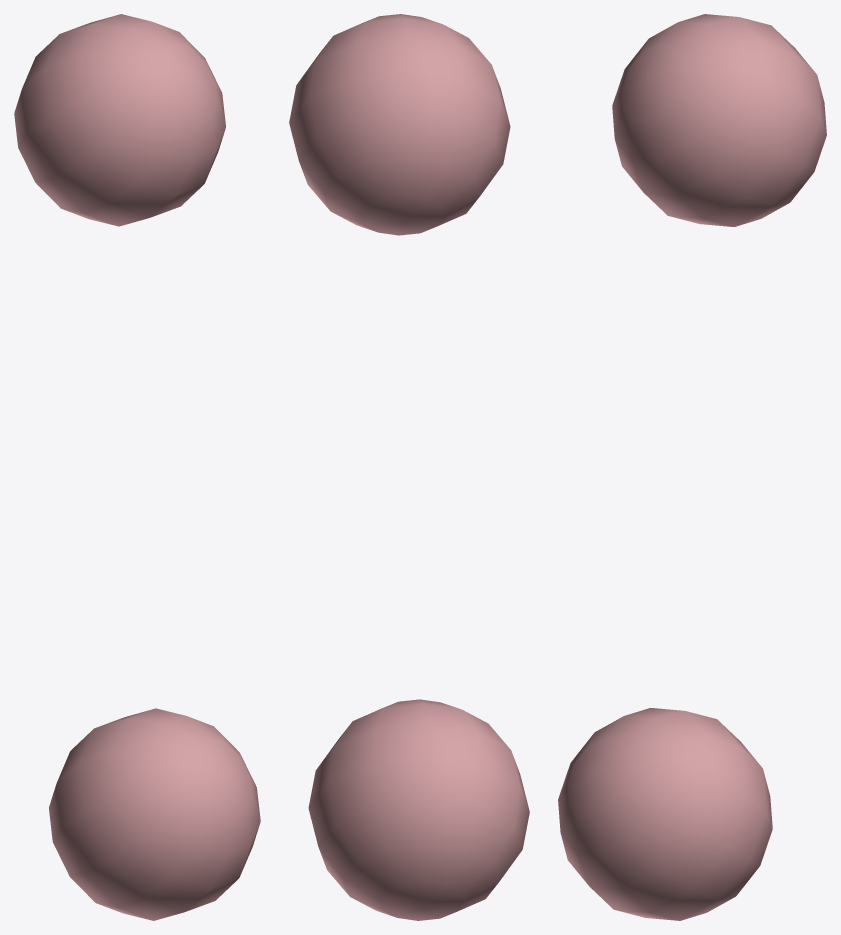
The picture shows the model from 3 angles, left to right: view 1: azimuth 30°, elevation 25°; view 2: azimuth 150°, elevation 25°; view 3: azimuth 270°, elevation 25°; orthographic projection. The views are drawn at different scales.
Parts seen in each view (by area): view 1: ZA_e626681c6bea3454; view 2: ZA_e626681c6bea3454; view 3: ZA_e626681c6bea3454.
Part boxes in pixels (x1=…): ZA_e626681c6bea3454: x1=14, y1=14, x2=260, y2=920; ZA_e626681c6bea3454: x1=289, y1=14, x2=529, y2=920; ZA_e626681c6bea3454: x1=558, y1=14, x2=826, y2=920.
Bounding box in the file's own units: 0.0027 × 0.0117 × 0.00323.
